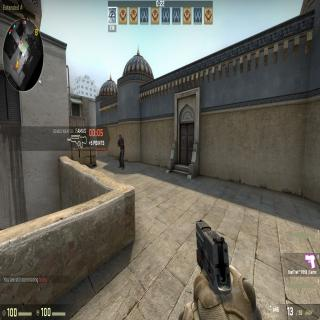T-Body: (118, 132, 126, 170)
T-Head: (118, 132, 122, 139)
